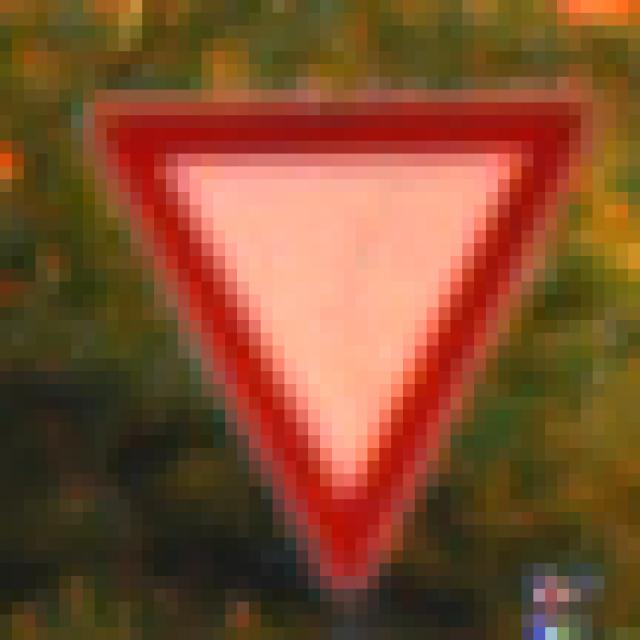Give Way: (72, 65, 570, 577)
